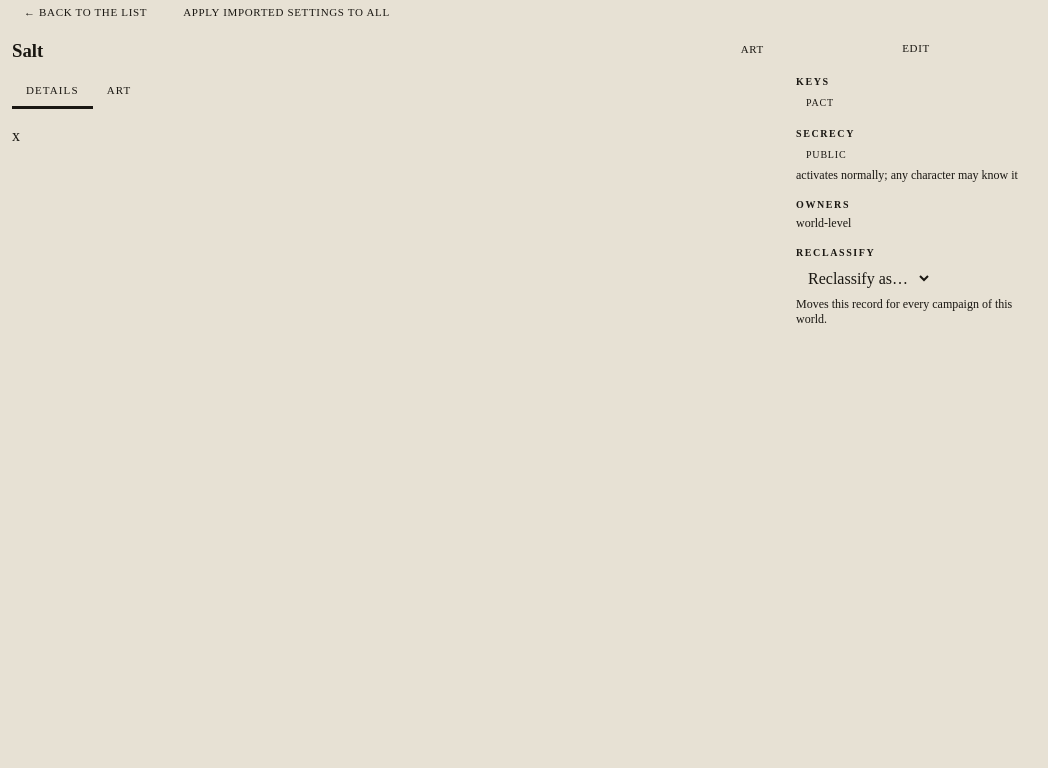
it: a record deleted underneath offers no overwrite
The width and height of the screenshot is (1048, 768).
Click the button "Edit" at (916, 48), box [796,36,1036,60]
(page scrolled)
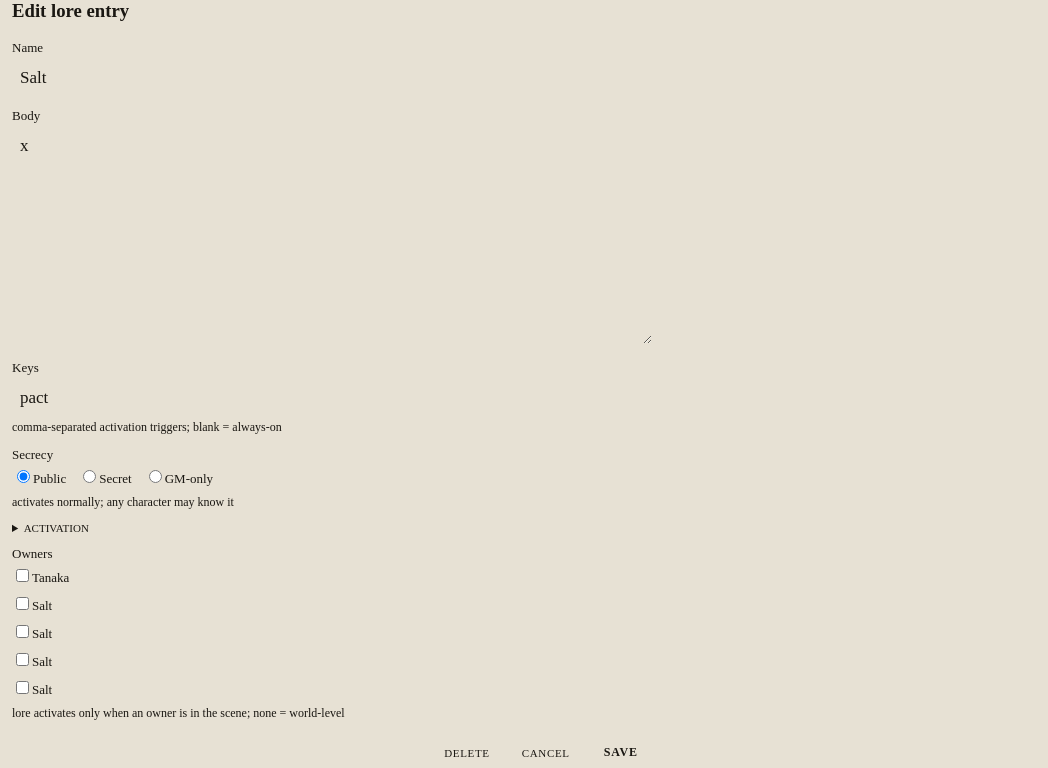
Click the button "Save" at (621, 753), box [590,737,652,767]
(page scrolled)
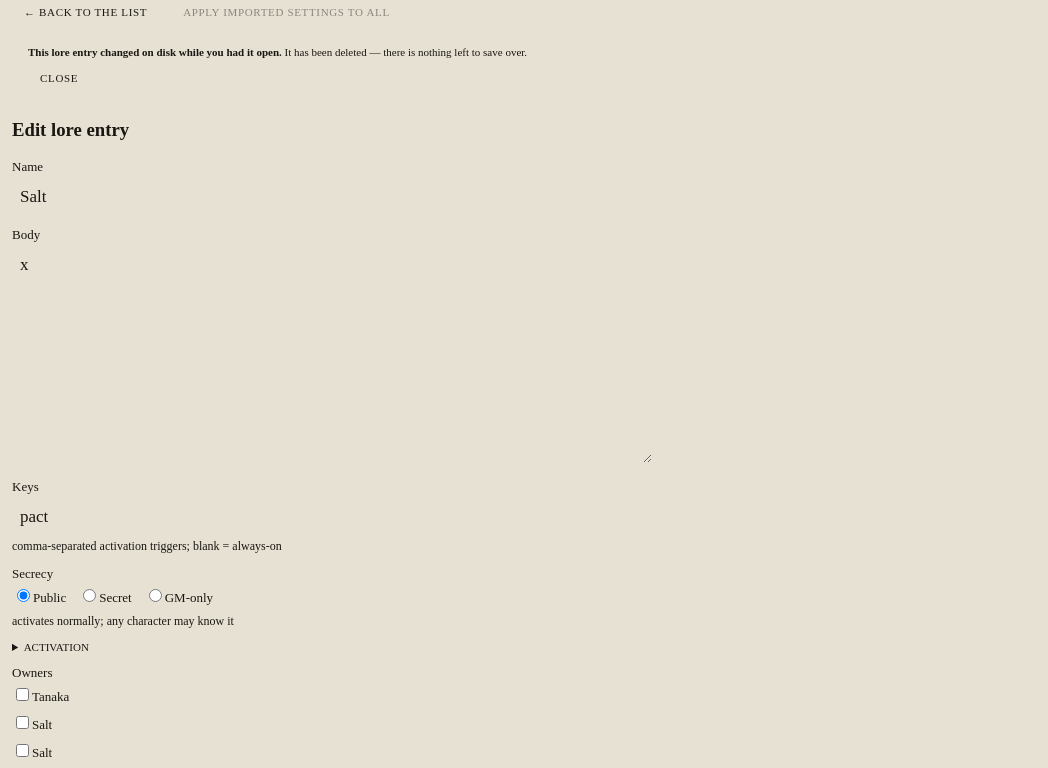
expect the message is shown: met, box [28,46,527,90]
expect the text "has been deleted" is shown: met, box [284,46,527,58]
